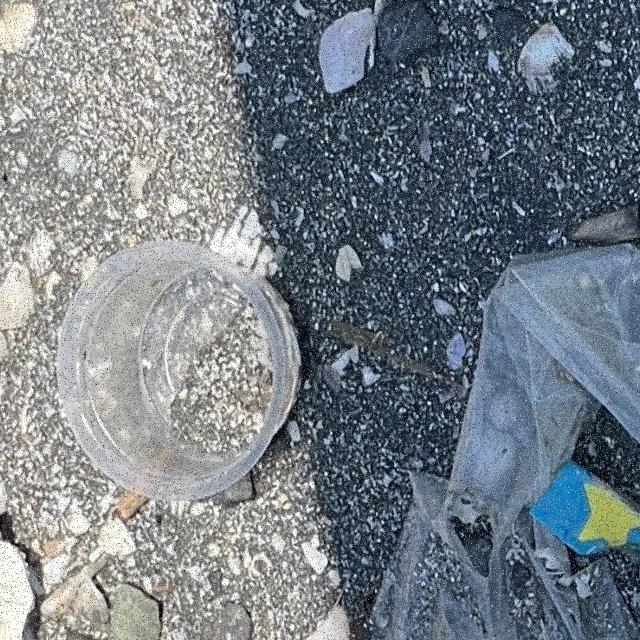plastic_waste: (55, 237, 305, 504)
